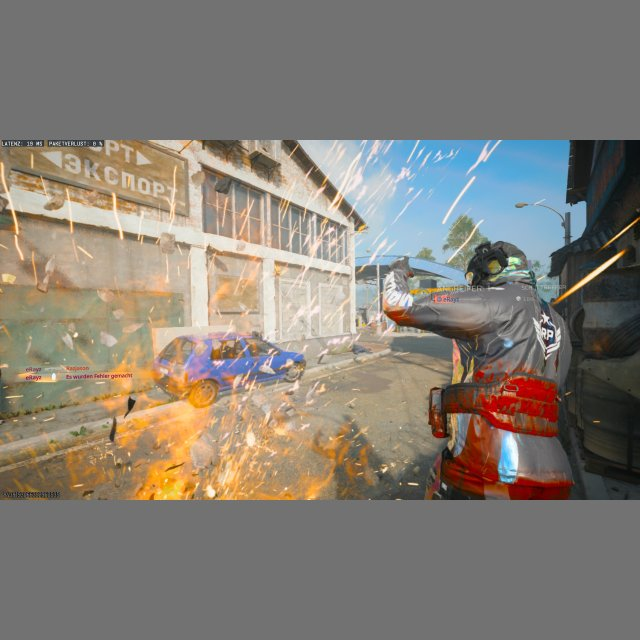head: (464, 240, 534, 288), (189, 379, 219, 409)
player: (397, 241, 570, 499)
